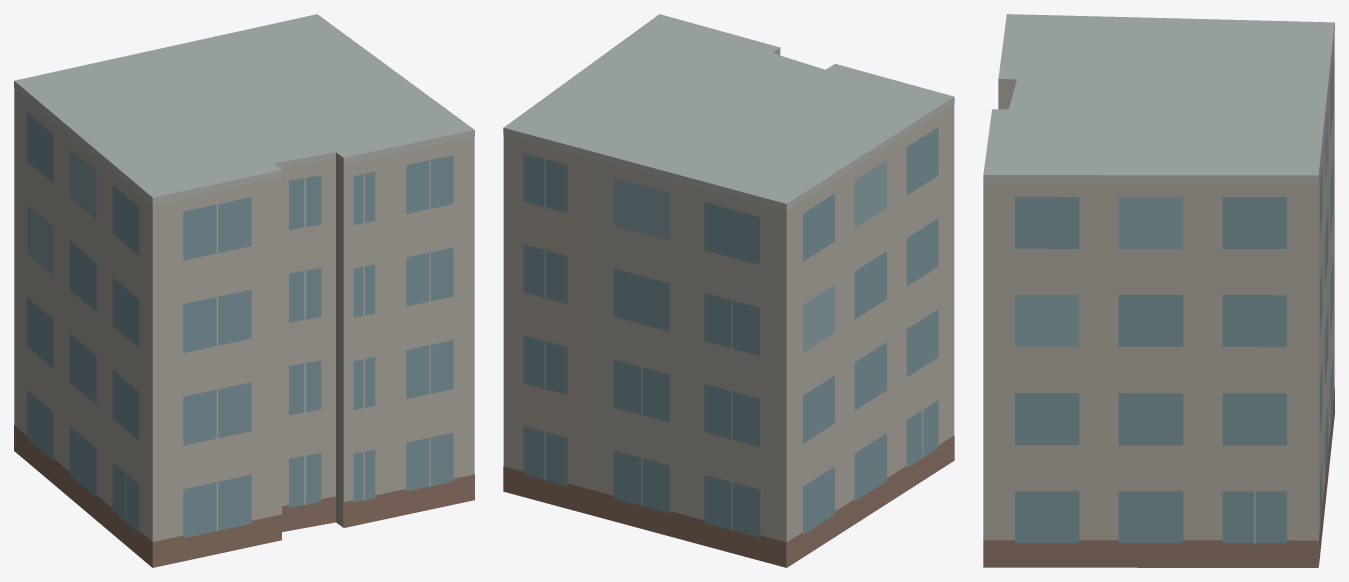
The model's file is survey-upis-32657302.glb.
The picture shows the model from 3 angles, left to right: view 1: azimuth 30°, elevation 25°; view 2: azimuth 150°, elevation 25°; view 3: azimuth 270°, elevation 25°; orthographic projection. The views are drawn at different scales.
Parts seen in each view (by area): view 1: survey-upis-32657302.tmp; view 2: survey-upis-32657302.tmp; view 3: survey-upis-32657302.tmp.
Boxes of the visible parts, box(x1,y1,x2,y2) form: survey-upis-32657302.tmp: box(14, 14, 474, 567); survey-upis-32657302.tmp: box(503, 14, 954, 567); survey-upis-32657302.tmp: box(983, 14, 1334, 567).
Bounding box in the file's own units: 11.29 × 12.8 × 10.39.
